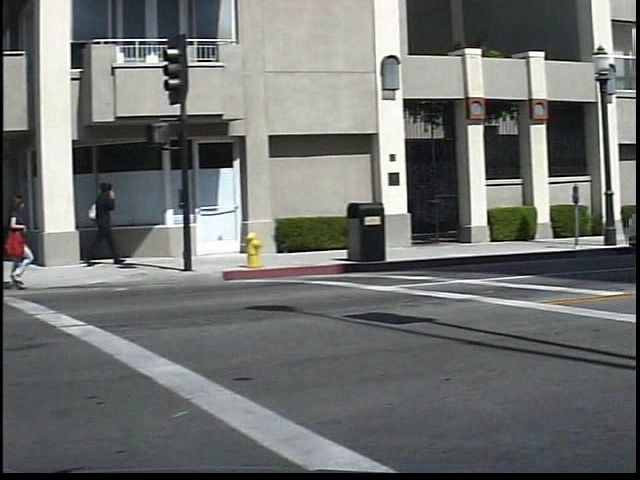person: (5, 185, 49, 296), (93, 174, 139, 267)
